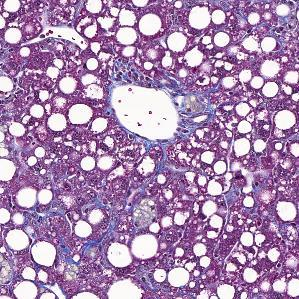fibrosis: (174, 84, 222, 131)
